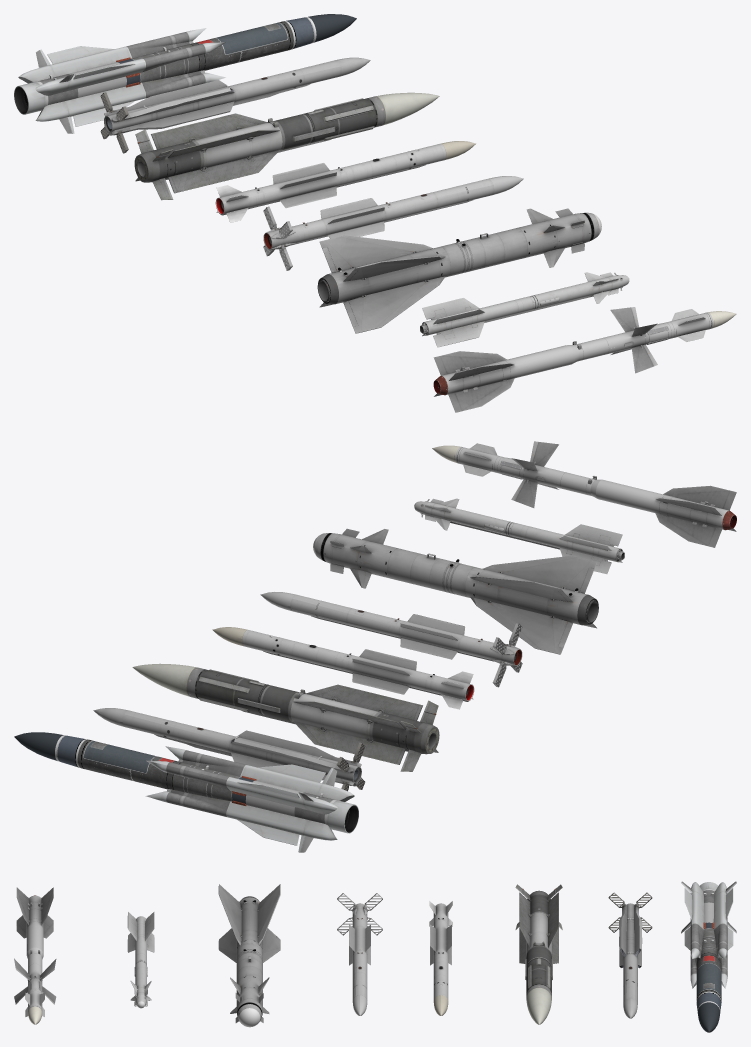
Rendered from ru_weapon.fbx.
3 views of the same model, one above another, from view 1: azimuth 30°, elevation 25°; view 2: azimuth 150°, elevation 25°; view 3: azimuth 270°, elevation 25° (orthographic). The views are drawn at different scales.
Parts seen in each view (by area): view 1: w_lasm_r0, ru_kh-29, ru_r-33, ru_r-27r, ru_RVV-AE-PD, ru_r-77, ru_r-77m, ru_r-73; view 2: w_lasm_r0, ru_kh-29, ru_r-33, ru_r-27r, ru_r-77, ru_RVV-AE-PD, ru_r-77m, ru_r-73; view 3: w_lasm_r0, ru_kh-29, ru_r-33, ru_r-27r, ru_RVV-AE-PD, ru_r-77, ru_r-77m, ru_r-73, ru_kh-29_Glass.
Part boxes in pixels (bbox=[...]): w_lasm_r0: bbox=[14, 14, 356, 133]; ru_kh-29: bbox=[317, 208, 599, 333]; ru_r-33: bbox=[134, 92, 439, 200]; ru_r-27r: bbox=[433, 307, 736, 412]; ru_RVV-AE-PD: bbox=[100, 57, 370, 153]; ru_r-77: bbox=[263, 176, 523, 270]; ru_r-77m: bbox=[215, 141, 475, 222]; ru_r-73: bbox=[420, 272, 628, 347]; w_lasm_r0: bbox=[14, 732, 358, 852]; ru_kh-29: bbox=[315, 528, 598, 654]; ru_r-33: bbox=[132, 663, 439, 771]; ru_r-27r: bbox=[432, 441, 736, 547]; ru_r-77: bbox=[260, 592, 522, 687]; ru_RVV-AE-PD: bbox=[93, 708, 365, 791]; ru_r-77m: bbox=[212, 627, 474, 709]; ru_r-73: bbox=[415, 498, 624, 573]; w_lasm_r0: bbox=[681, 881, 736, 1032]; ru_kh-29: bbox=[218, 884, 280, 1023]; ru_r-33: bbox=[515, 884, 562, 1024]; ru_r-27r: bbox=[14, 887, 56, 1024]; ru_RVV-AE-PD: bbox=[608, 892, 652, 1018]; ru_r-77: bbox=[337, 893, 382, 1015]; ru_r-77m: bbox=[429, 901, 452, 1015]; ru_r-73: bbox=[127, 912, 154, 1006]; ru_kh-29_Glass: bbox=[239, 1008, 260, 1027].
Bounding box in the file's own units: 473 × 89.21 × 1040.
